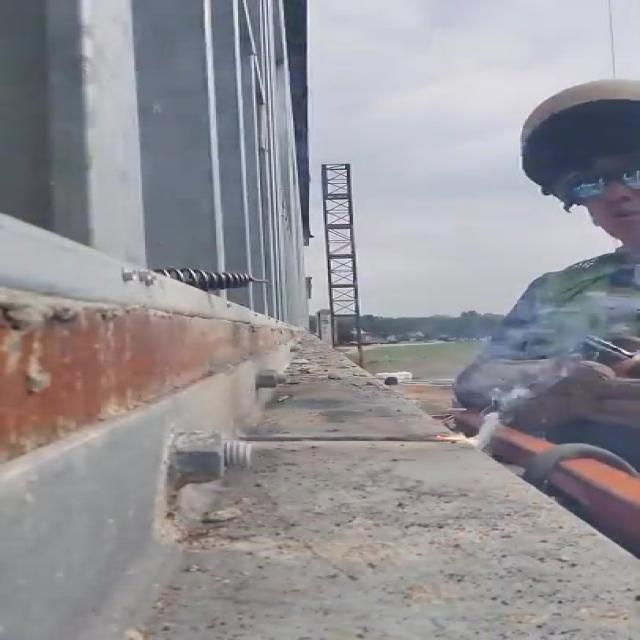glasses: (561, 170, 640, 202)
